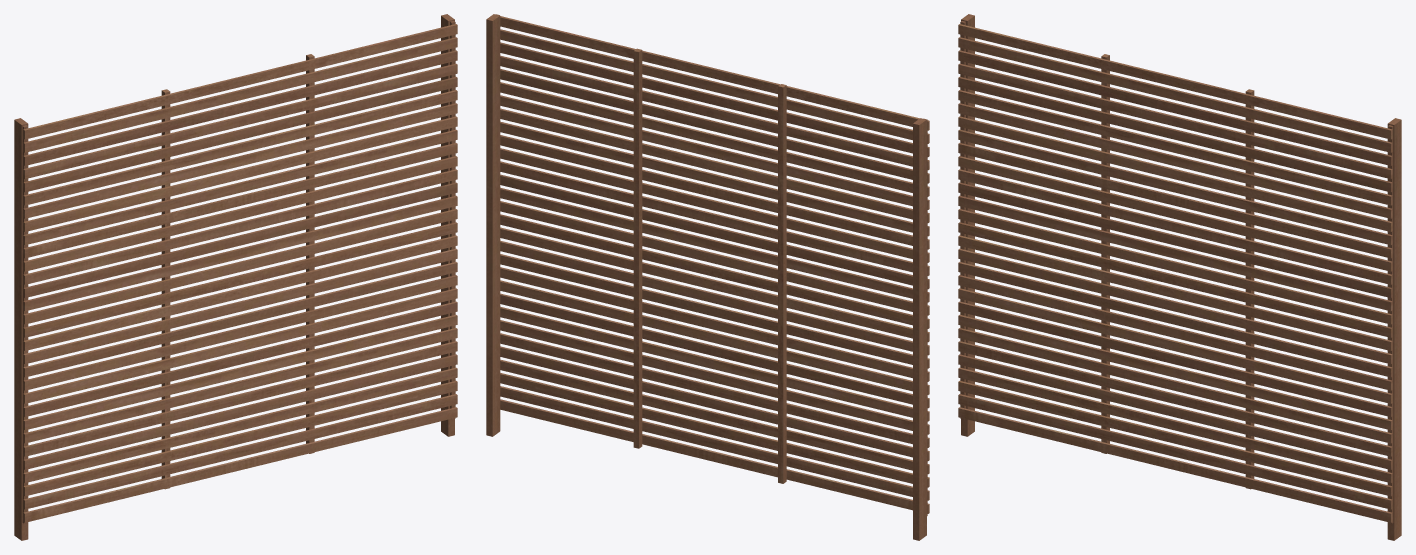
The model's file is EAdesignunitborder_h1835-w1999_jara.fbx.
3 renders of one model, left to right at view 1: azimuth 30°, elevation 25°; view 2: azimuth 150°, elevation 25°; view 3: azimuth 330°, elevation 25°, orthographic.
Parts seen in each view (by area): view 1: EAdesignunitborder_h1835-w1999_jara; view 2: EAdesignunitborder_h1835-w1999_jara; view 3: EAdesignunitborder_h1835-w1999_jara.
Part boxes in pixels (<box>): EAdesignunitborder_h1835-w1999_jara: <box>14,14,457,540</box>; EAdesignunitborder_h1835-w1999_jara: <box>486,14,929,540</box>; EAdesignunitborder_h1835-w1999_jara: <box>958,14,1401,540</box>.
Bounding box in the file's own units: 200 × 183 × 8.4.
Materials: 1 (1 with a texture image).
